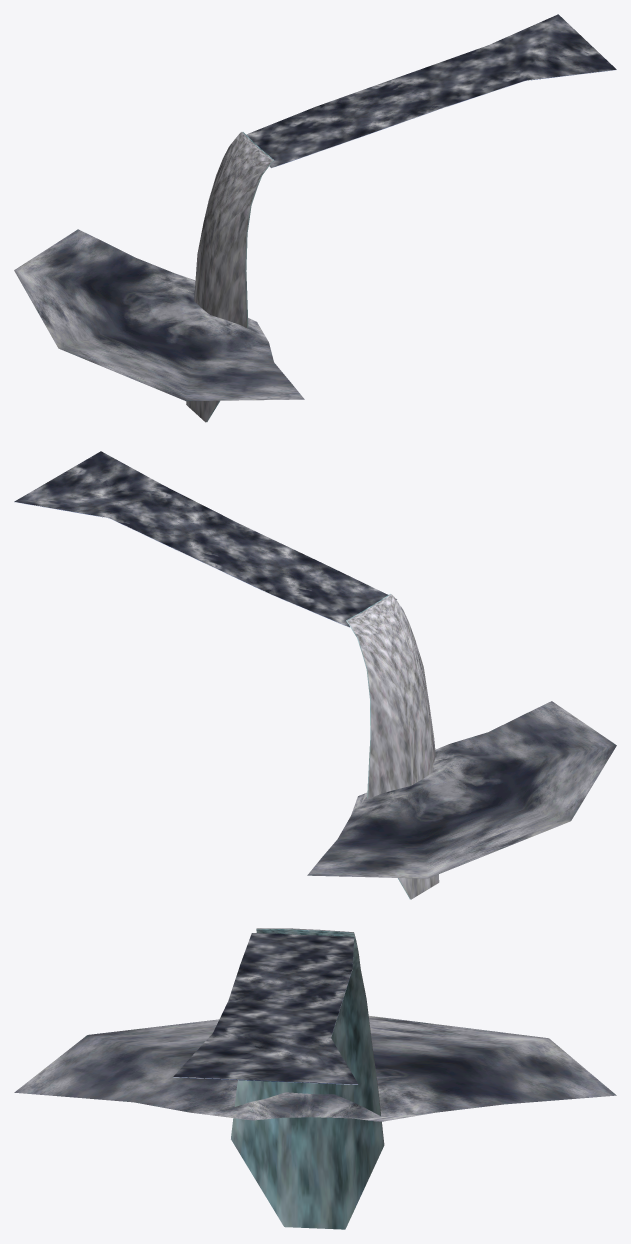
Rendered from RM_PLAYSURFACE_FINAL_MAINHALL_WATERFALL_BILLOWS.fbx.
3 views of the same model, one above another, from view 1: azimuth 30°, elevation 25°; view 2: azimuth 150°, elevation 25°; view 3: azimuth 270°, elevation 25° (orthographic). The views are drawn at different scales.
Visible parts, largest first — view 1: RM_PLAYSURFACE_FINAL_MAINHALL_WATERFALL_BILLOWS; view 2: RM_PLAYSURFACE_FINAL_MAINHALL_WATERFALL_BILLOWS; view 3: RM_PLAYSURFACE_FINAL_MAINHALL_WATERFALL_BILLOWS.
Boxes of the visible parts, x1,y1,x2,y2 form: RM_PLAYSURFACE_FINAL_MAINHALL_WATERFALL_BILLOWS: [14, 14, 616, 422]; RM_PLAYSURFACE_FINAL_MAINHALL_WATERFALL_BILLOWS: [14, 451, 616, 899]; RM_PLAYSURFACE_FINAL_MAINHALL_WATERFALL_BILLOWS: [14, 928, 616, 1229].
Bounding box in the file's own units: 92664 × 50392 × 71633.
5 materials, 5 textured.
